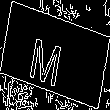M_N: (36, 25, 74, 85)
